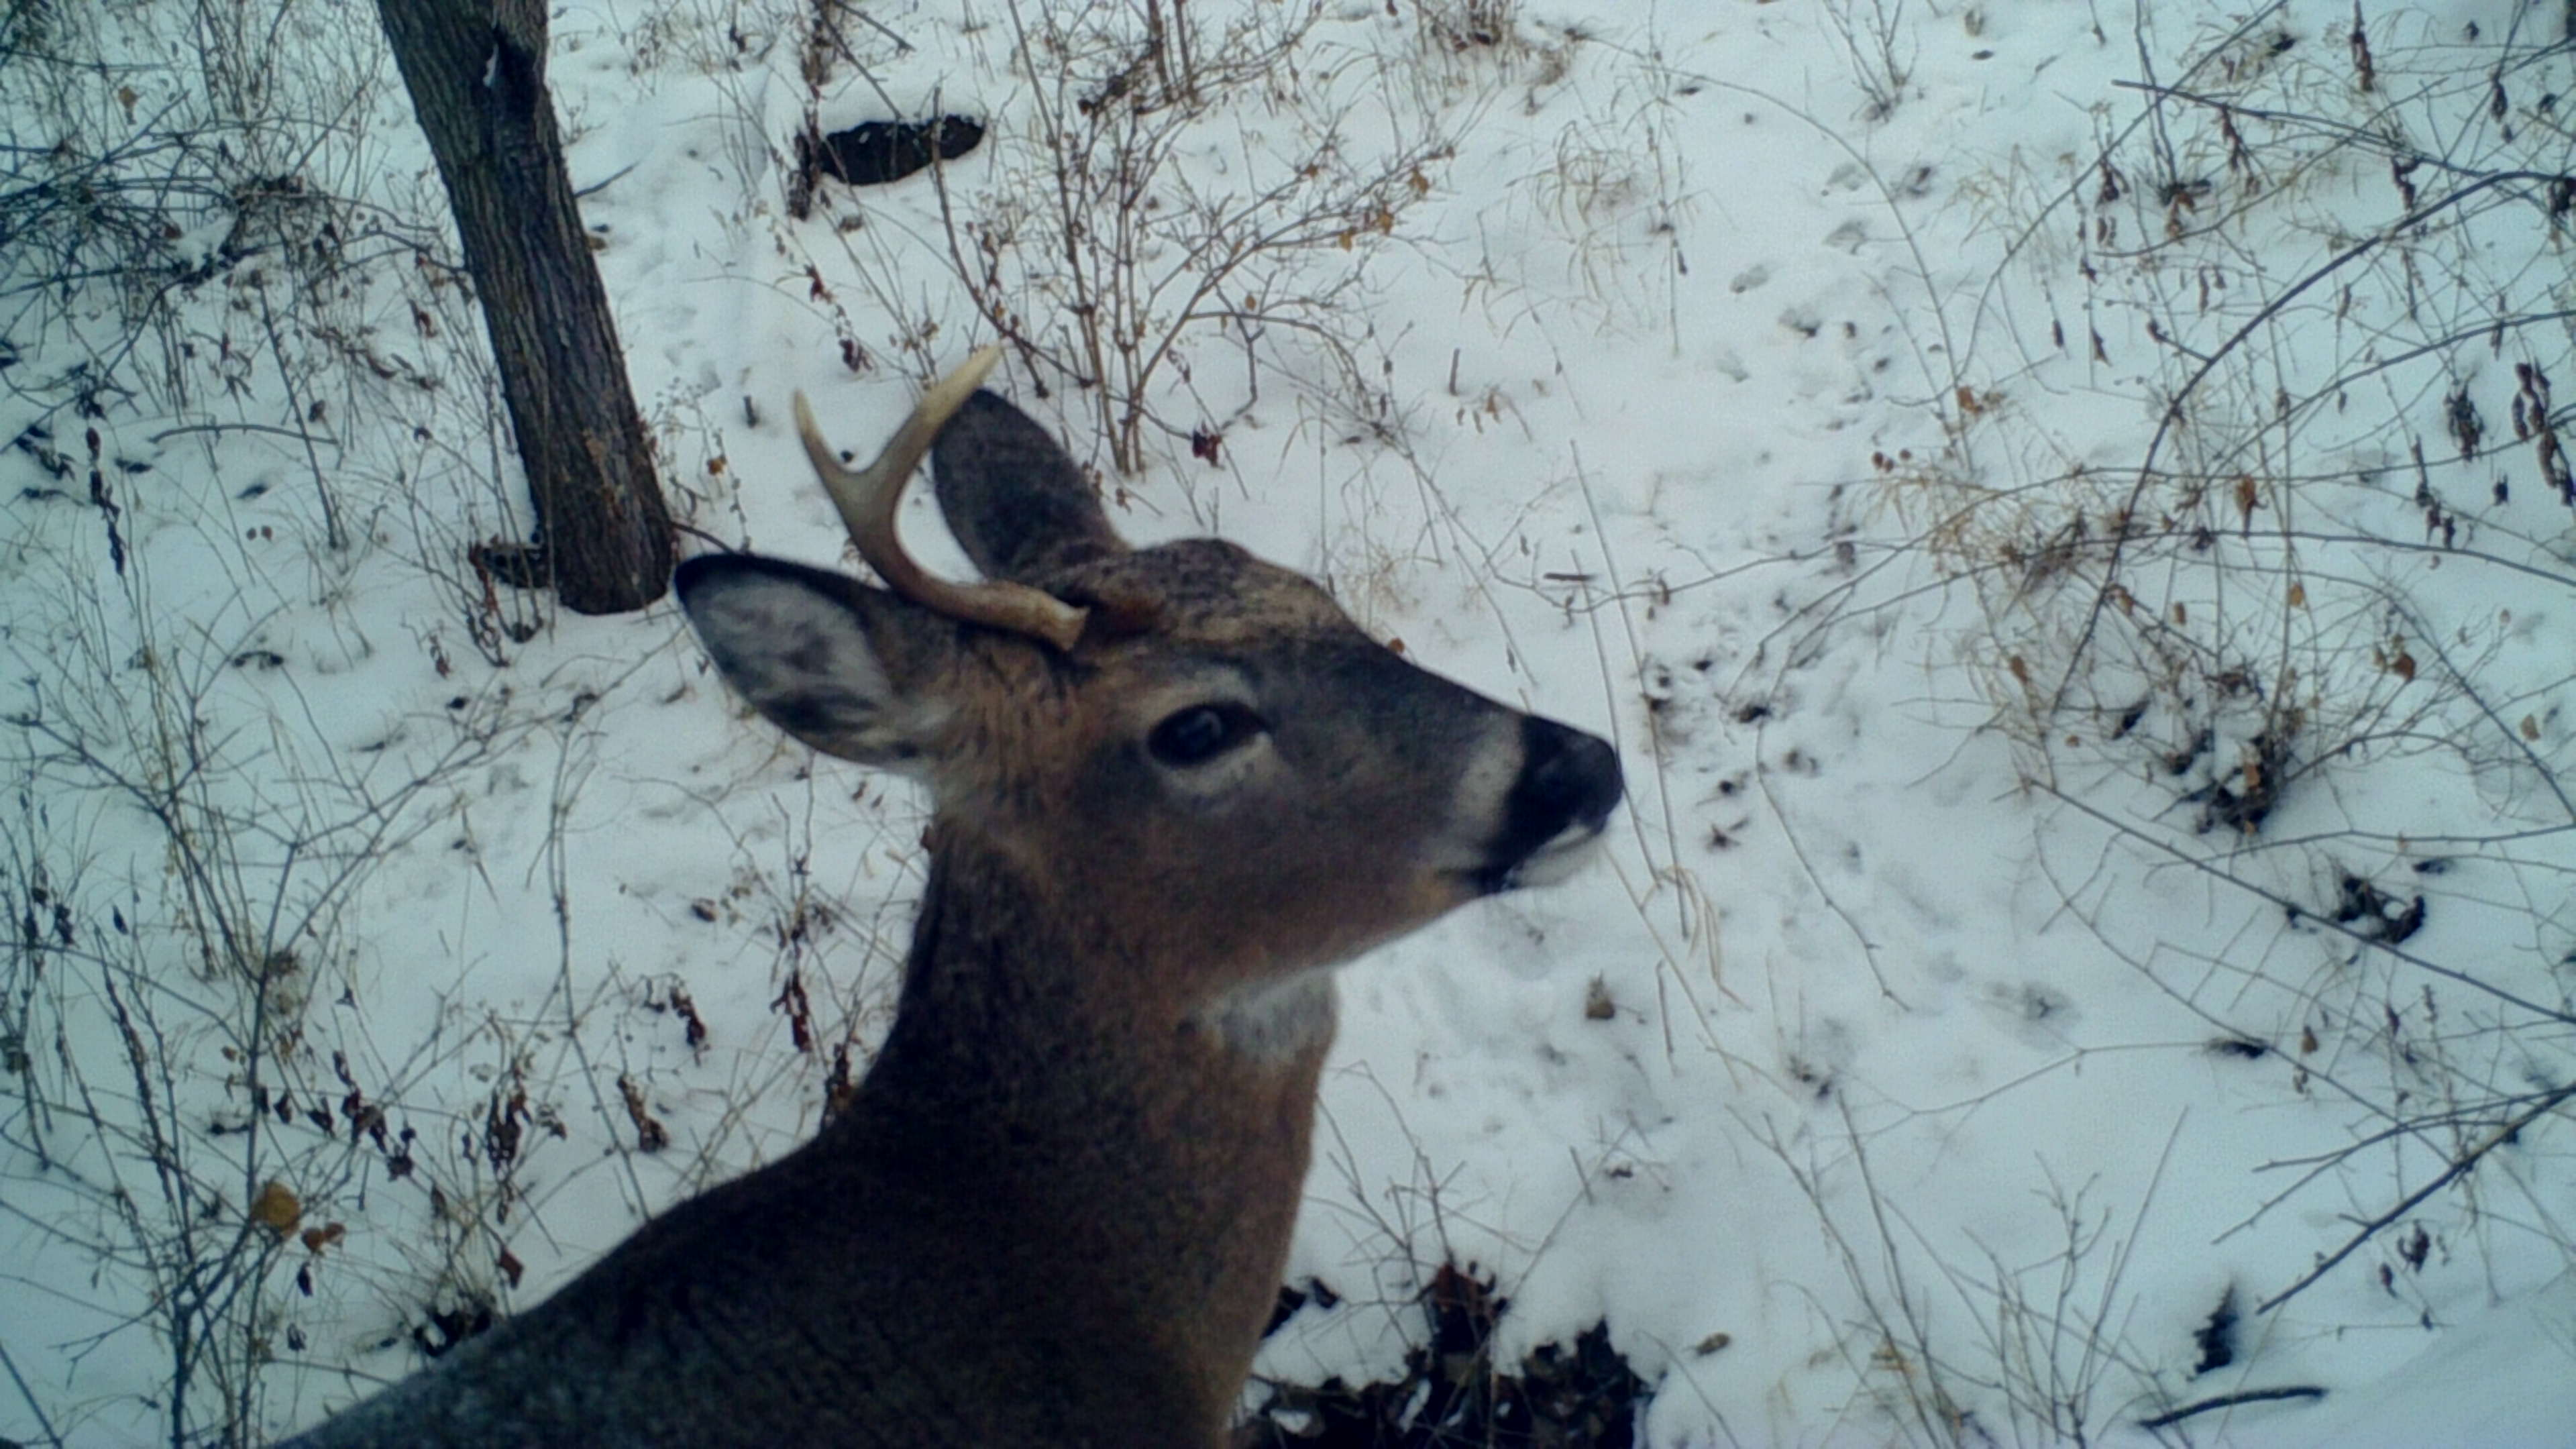DeerBuck: (288, 317, 1640, 1449)
DeerBuckHead: (670, 318, 1638, 895)
